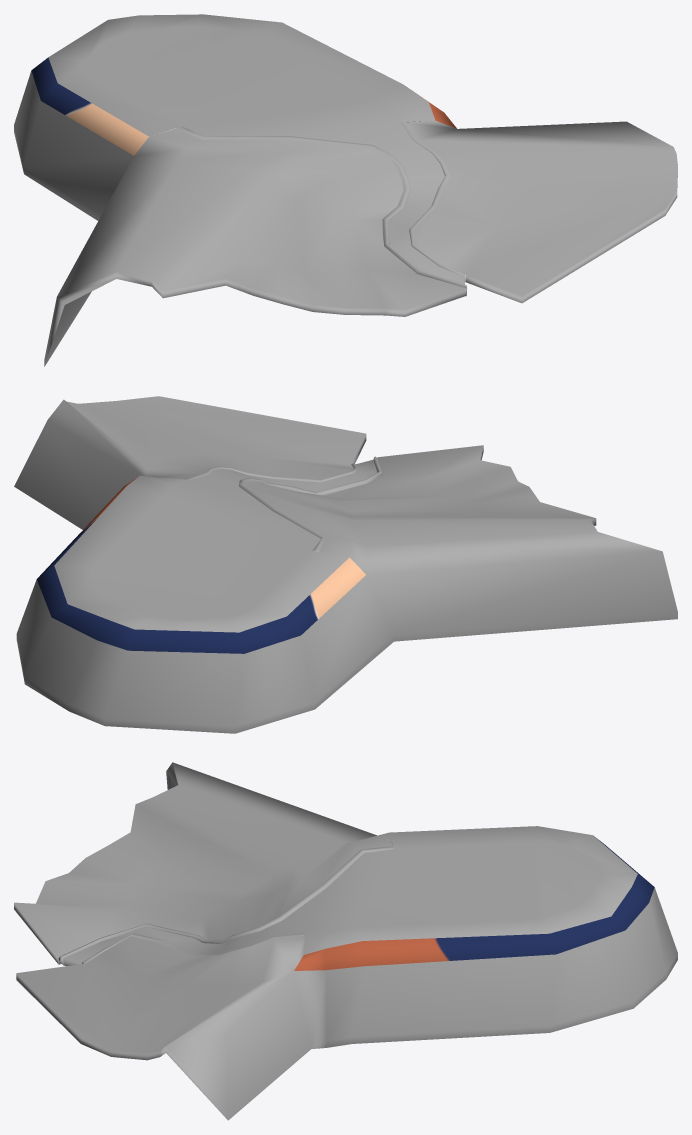
The model's file is Cliff1.fbx.
3 views of the same model, one above another, from view 1: azimuth 30°, elevation 25°; view 2: azimuth 150°, elevation 25°; view 3: azimuth 270°, elevation 25° (orthographic). The views are drawn at different scales.
Parts seen in each view (by area): view 1: pCube46; view 2: pCube46; view 3: pCube46.
Part boxes in pixels (x1,y1,x2,y2): pCube46: [14, 14, 677, 366]; pCube46: [14, 396, 677, 733]; pCube46: [14, 762, 677, 1120].
Size of the model in its own units: 9273 by 1337 by 8639.
